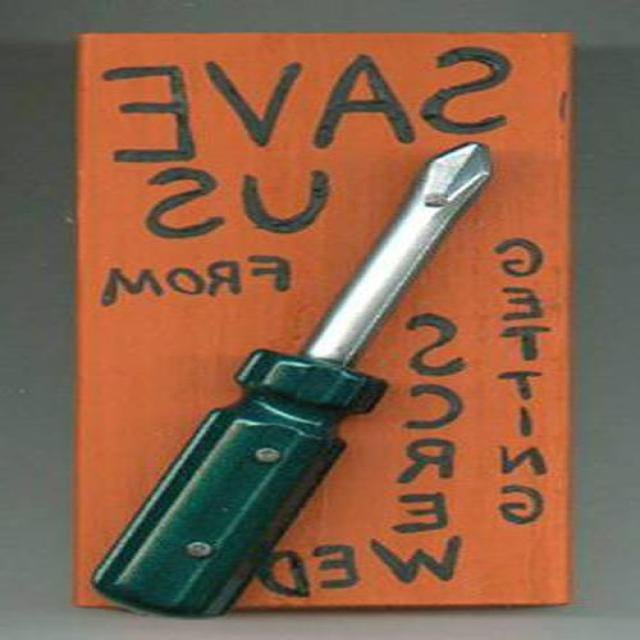screw driver: (81, 113, 498, 617)
